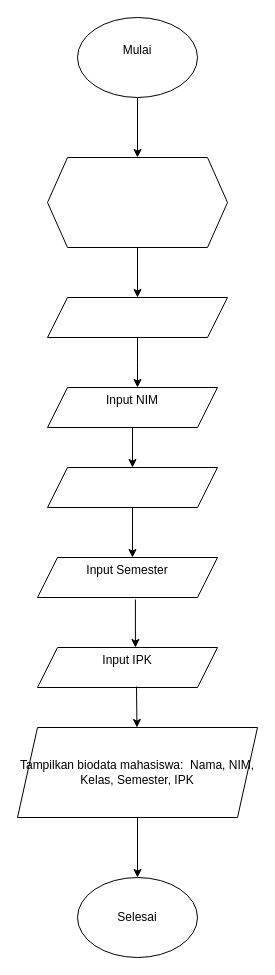
Image size: 275x975. Some labels were removed from this diagram. Here are the shapes that lost their labels. From the top down, the box of each, then its label:
(46, 156, 228, 248): Deklarasi variabel: string: Nama, Kelas int: NIM, Semester, IPK
(46, 296, 228, 338): Input Nama
(46, 466, 218, 508): Input Kelas
